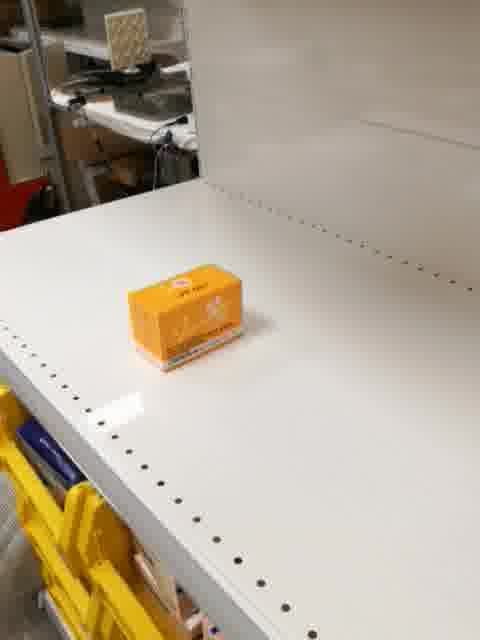jasminetea: (129, 264, 243, 373)
